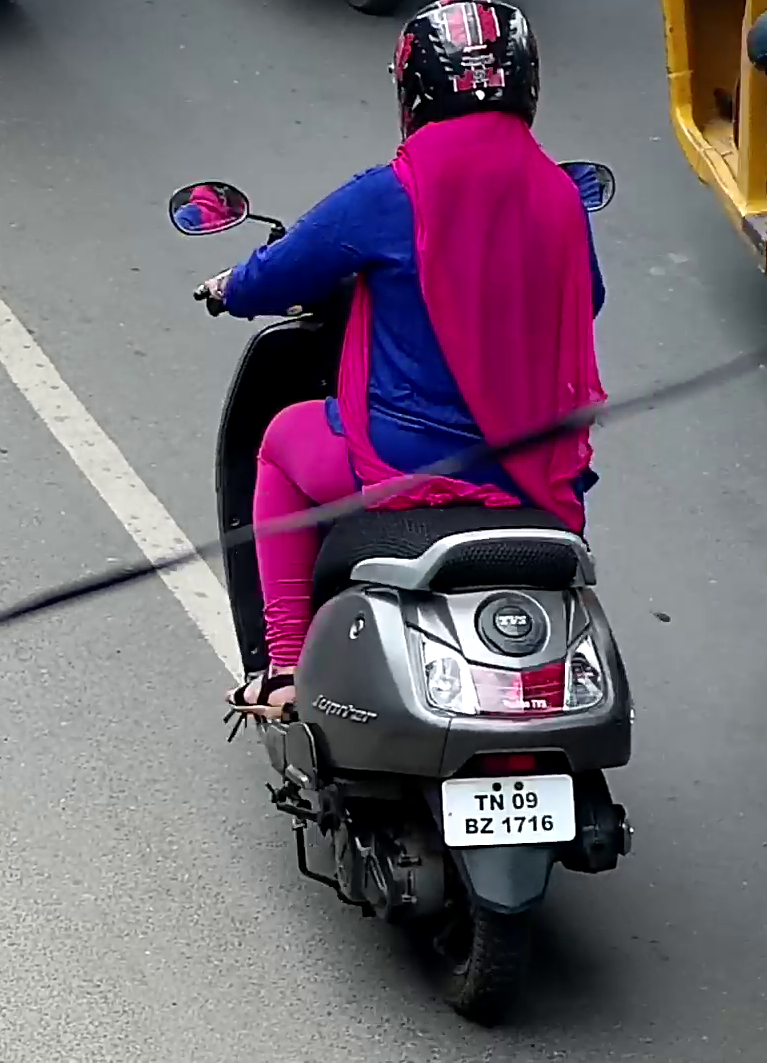0: (512, 793, 524, 810)
1: (501, 815, 512, 833), (527, 815, 538, 832)
6: (541, 814, 554, 831)
7: (513, 815, 526, 833)
9: (525, 791, 538, 808)
B: (465, 817, 479, 834)
N: (489, 793, 504, 811)
P16: (440, 773, 577, 848)
T: (474, 794, 489, 811)
Z: (479, 816, 494, 834)
